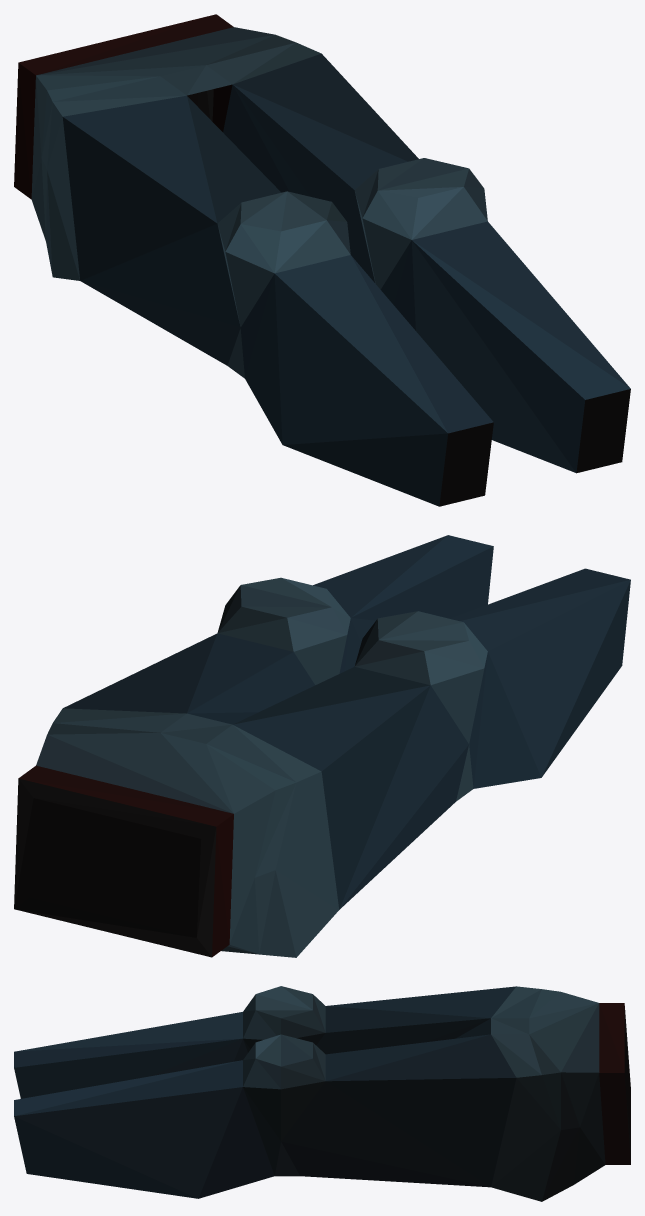
The model's file is runite-platelegs.obj.
3 renders of one model, top to bottom at view 1: azimuth 30°, elevation 25°; view 2: azimuth 150°, elevation 25°; view 3: azimuth 270°, elevation 25°, orthographic. The views are drawn at different scales.
Visible parts, largest first — view 1: Item Rune platelegs 2026-09-24_18-19-42; view 2: Item Rune platelegs 2026-09-24_18-19-42; view 3: Item Rune platelegs 2026-09-24_18-19-42.
Part boxes in pixels (bbox=[...]): Item Rune platelegs 2026-09-24_18-19-42: bbox=[14, 14, 630, 506]; Item Rune platelegs 2026-09-24_18-19-42: bbox=[14, 535, 630, 957]; Item Rune platelegs 2026-09-24_18-19-42: bbox=[14, 986, 630, 1201].
Bounding box in the file's own units: 34 × 24 × 97.
